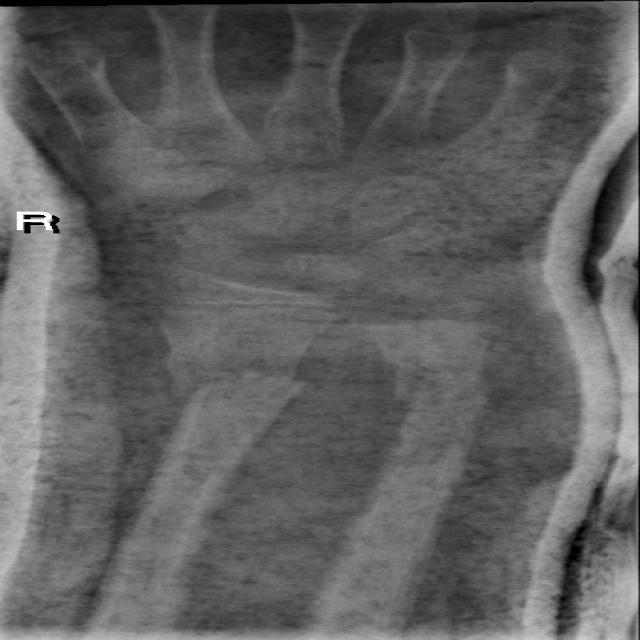radius fracture: (149, 336, 348, 493)
ulna fracture: (367, 351, 531, 483)
